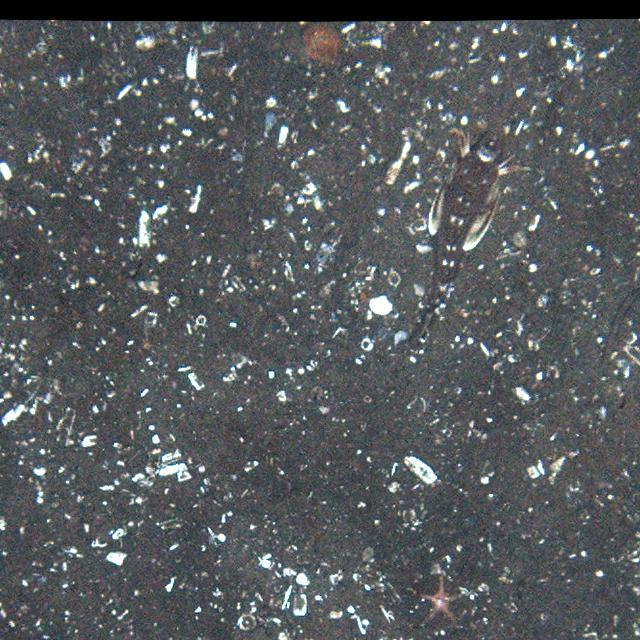scallop: (301, 20, 346, 64)
